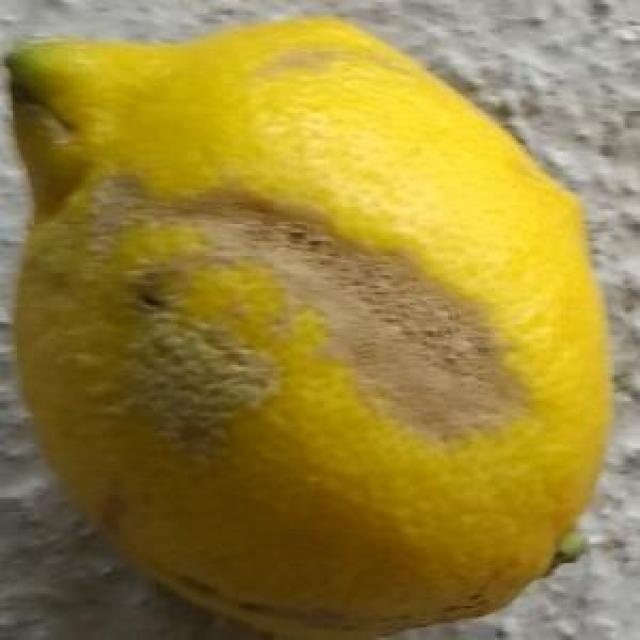lemon: (3, 9, 616, 630)
